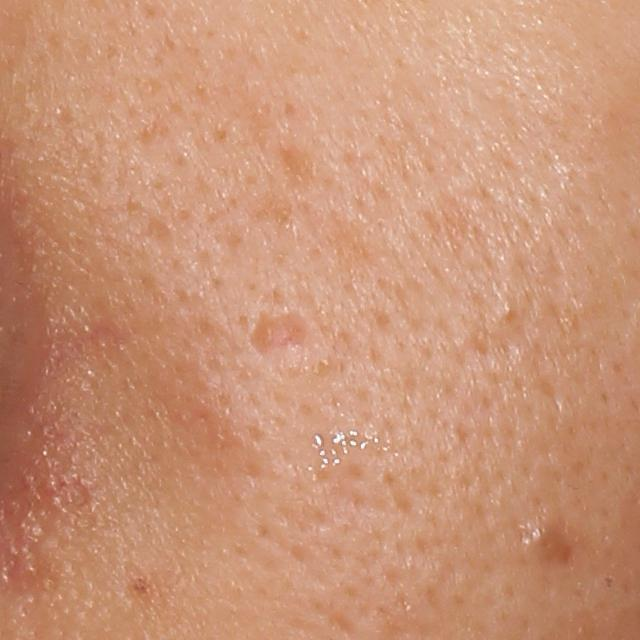atrophic_scar: (277, 135, 317, 194), (256, 313, 308, 353)
comedo: (498, 301, 519, 322)
